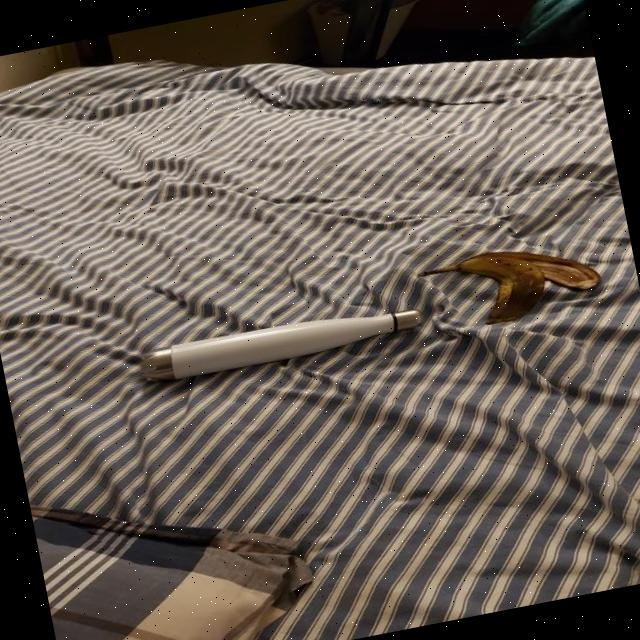banana-peel: (416, 228, 605, 338)
